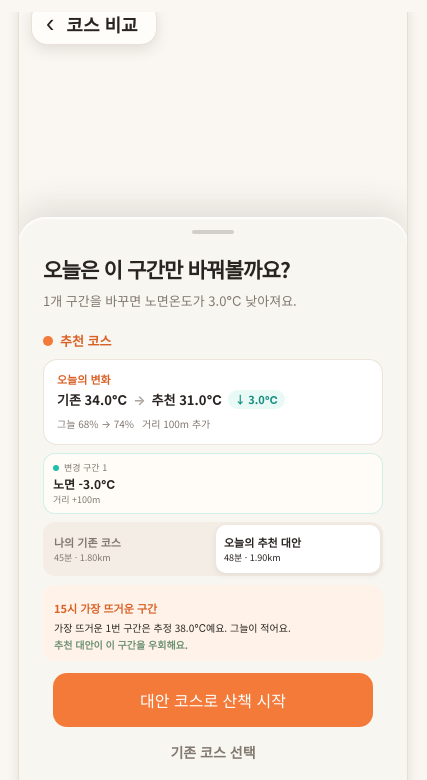
Test: RouteComparisonPage › fits the selected route into the visible map area
The image size is (427, 780).
Expected: the heading "오늘은 이 구간만 바꿔볼까요?" is shown, [43, 254, 290, 284]
Click the button "나의 기존 코스 45분 · 1.80km": (128, 549) [46, 525, 210, 573]
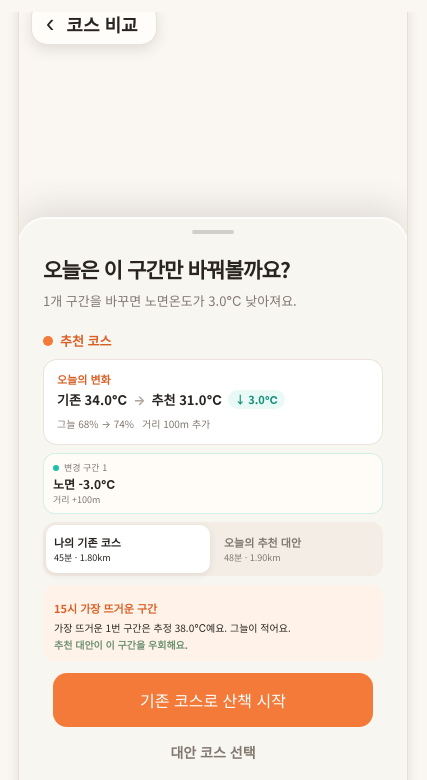
Click the button "오늘의 추천 대안 48분 · 1.90km": (298, 549) [216, 525, 380, 573]
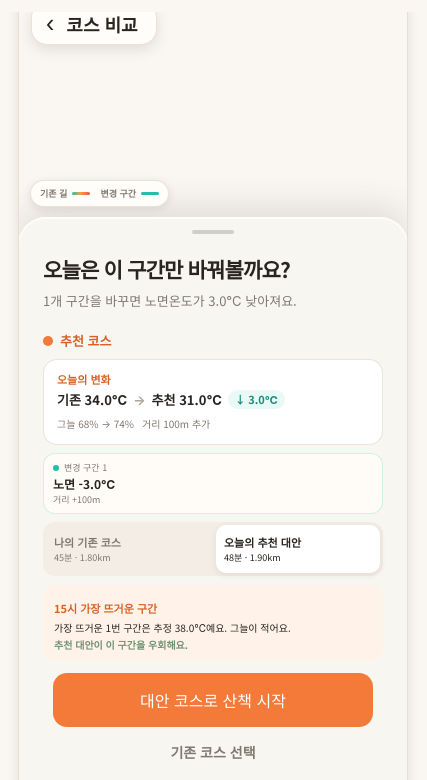
Expected: the element named "코스 색상 안내" reads "기존 길 변경 구간", [30, 180, 169, 207]
